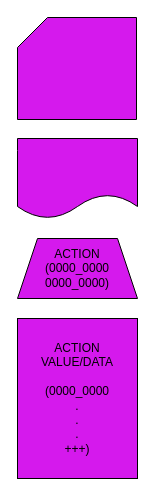
Image size: 155x496. Some labels were removed from this diagram. Here are the shapes that lost their labels. From the top down, the box of each, then its label:
(16, 16, 136, 120): CHAIN METADATA 0 - Not Chained 255 - Chained Message
(16, 138, 138, 218): ORIGIN OCTET 0000_0000
